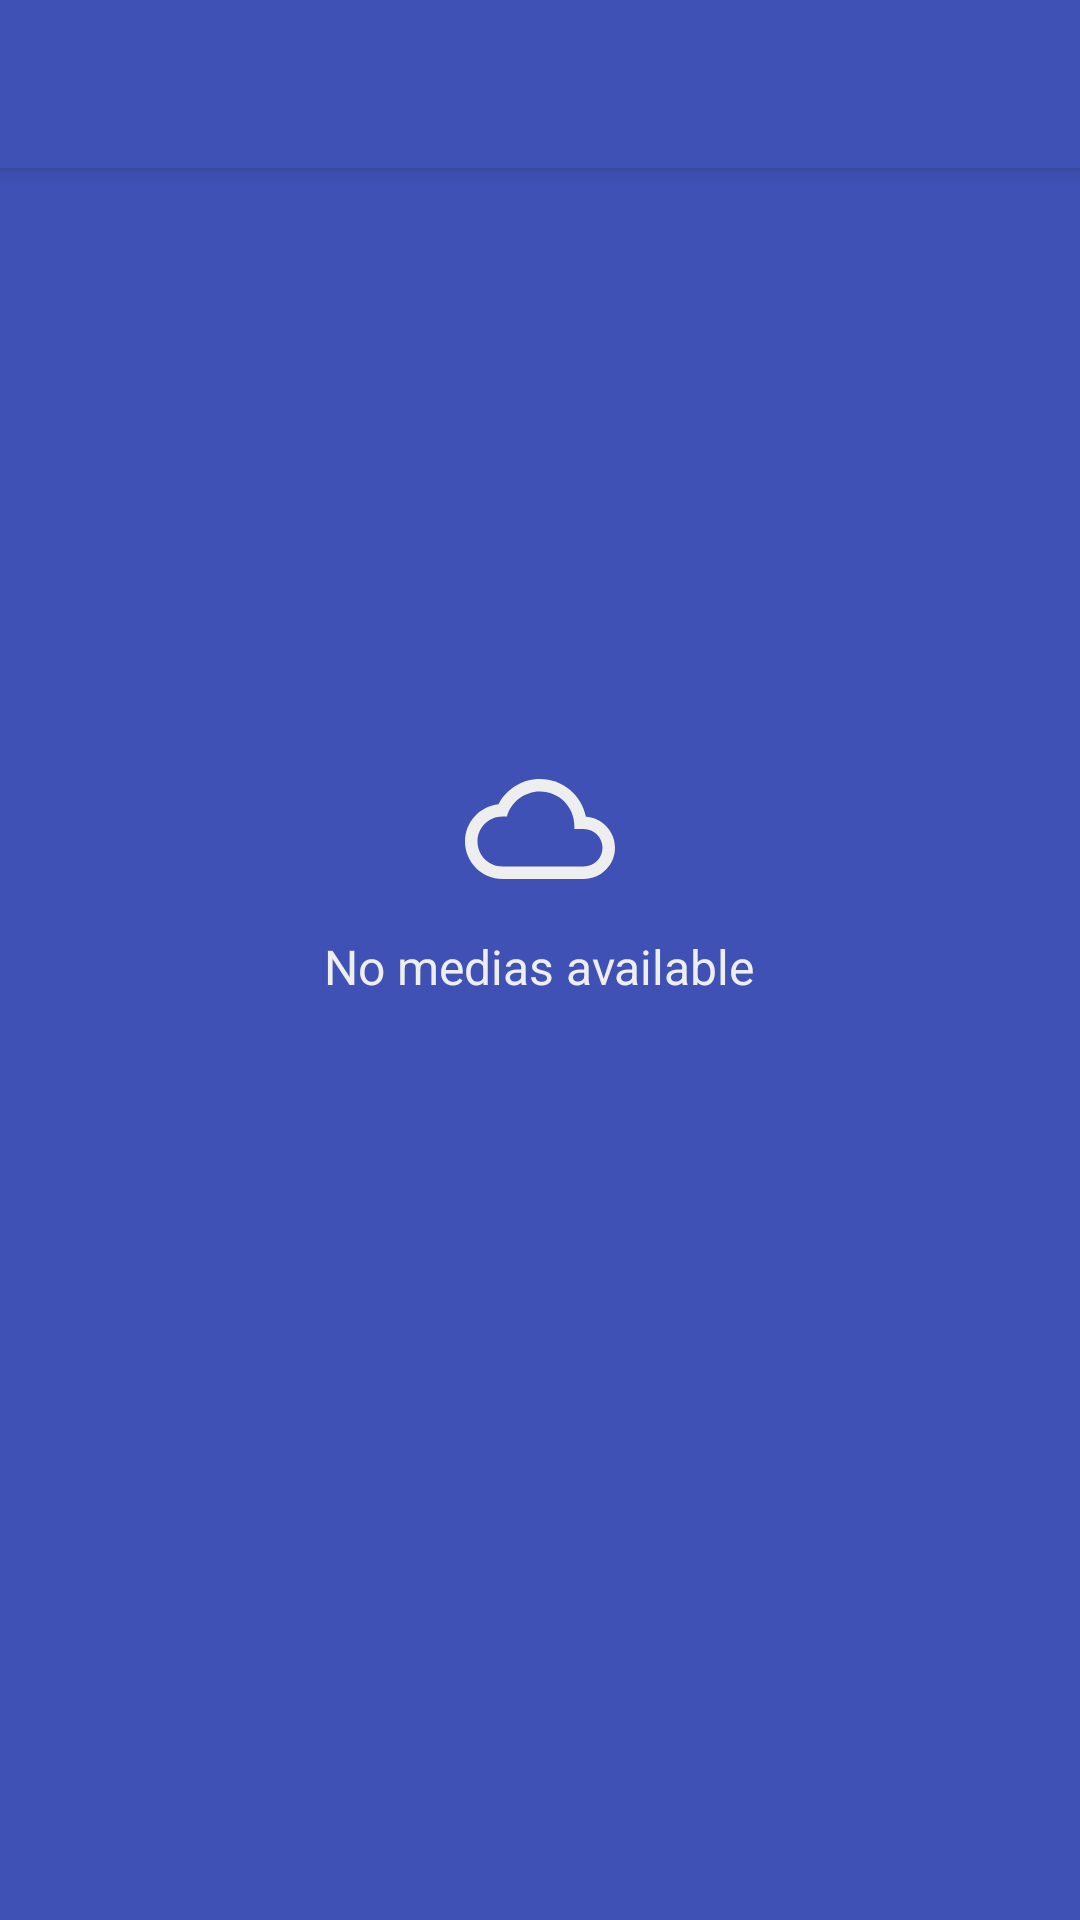

Icon bounding boxes for this 1080*1920 phone screenshot, format (x1, y1, x2, y2):
cloud queue: (465, 779, 615, 879)
